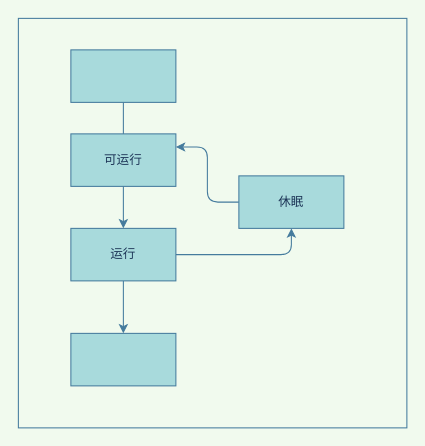
Image size: 425x446. Some labels were removed from this diagram. Each missing label, with the centre of its shape:
初始: the point at 123,75
终止: the point at 123,359
